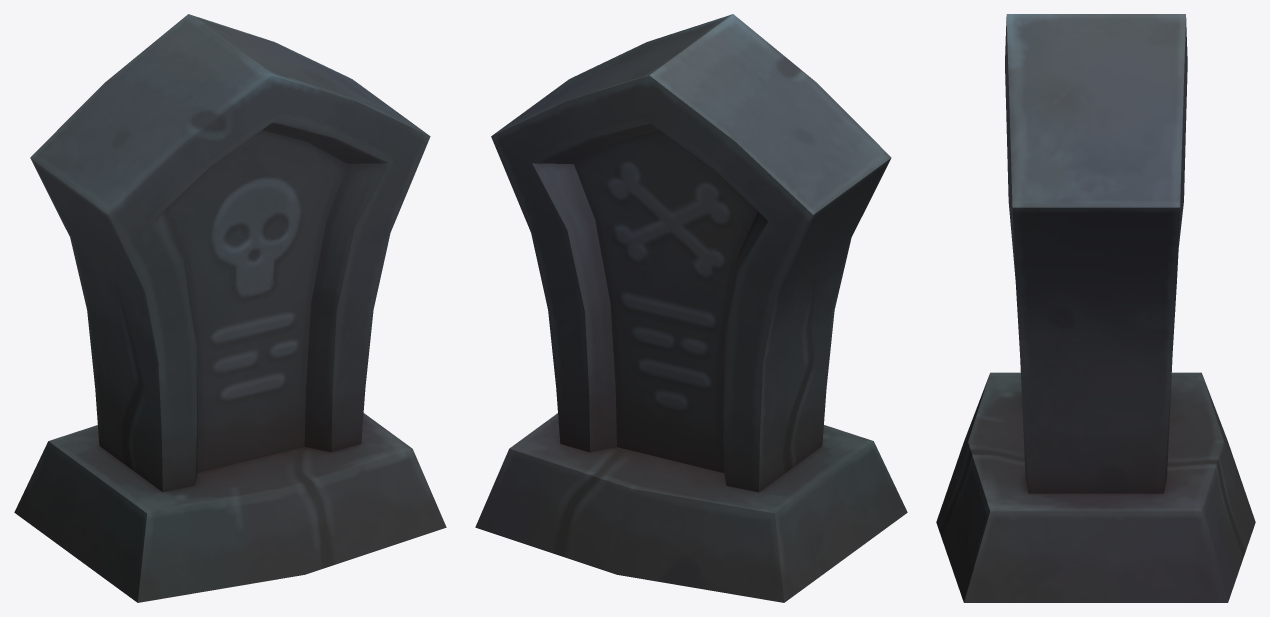
The model's file is grave02.fbx.
3 renders of one model, left to right at view 1: azimuth 30°, elevation 25°; view 2: azimuth 150°, elevation 25°; view 3: azimuth 270°, elevation 25°, orthographic. The views are drawn at different scales.
Visible parts, largest first — view 1: grave02; view 2: grave02; view 3: grave02.
Part boxes in pixels (left/top/right/bottom): grave02: left=14, top=14, right=446, bottom=602; grave02: left=475, top=14, right=907, bottom=602; grave02: left=936, top=14, right=1255, bottom=602.
Size of the model in its own units: 87.01 by 123 by 69.86.
